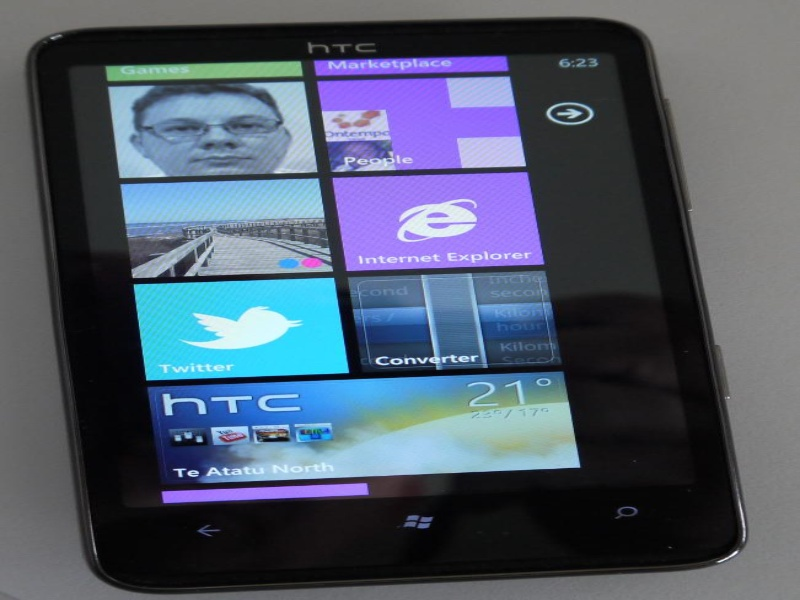cellphone: (21, 21, 751, 589)
